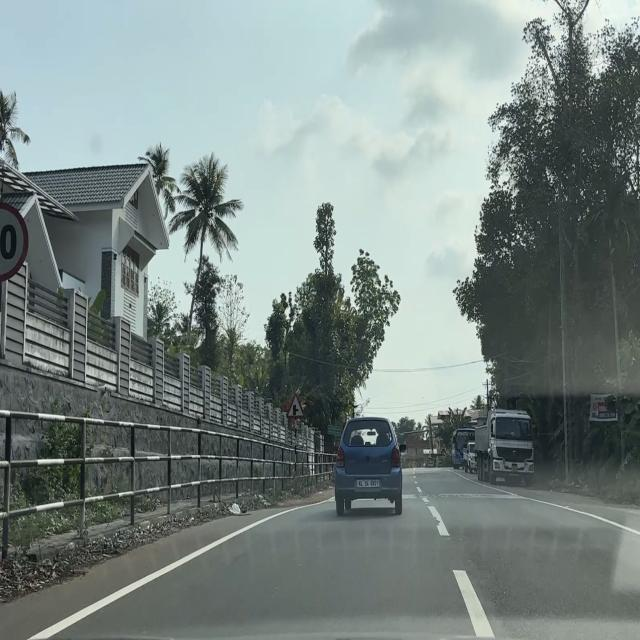SIDE_ROAD_RIGHT: (286, 392, 306, 419)
